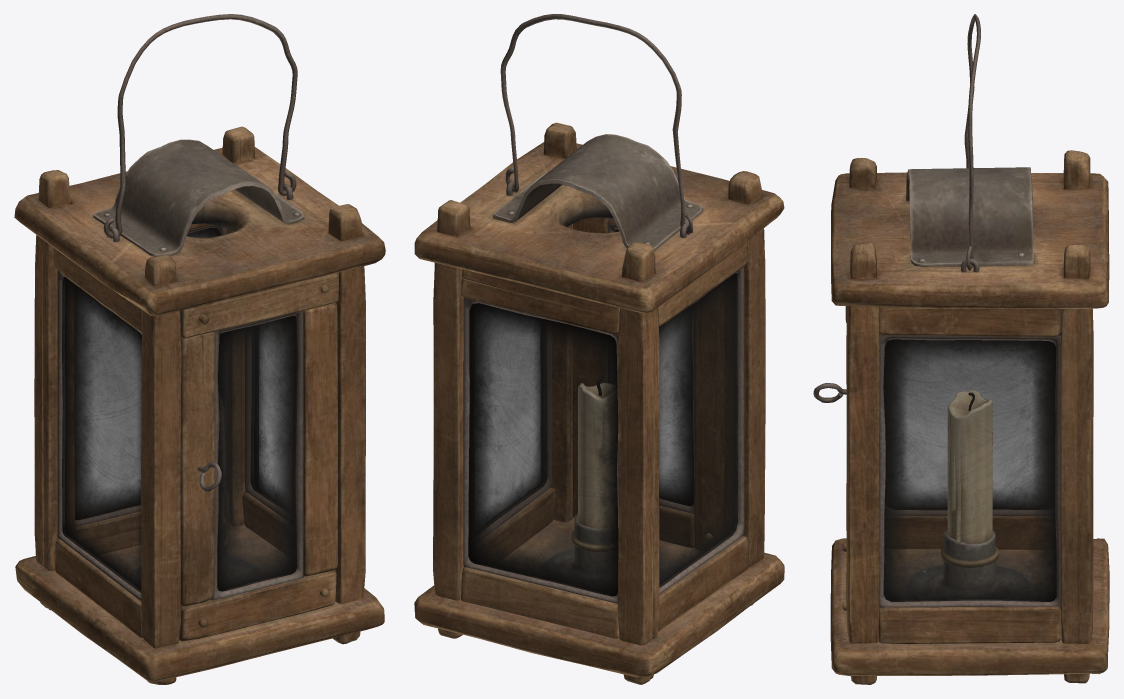
Rendered from lantern.glb.
3 renders of one model, left to right at view 1: azimuth 30°, elevation 25°; view 2: azimuth 150°, elevation 25°; view 3: azimuth 270°, elevation 25°, orthographic.
Parts seen in each view (by area): view 1: wooden_lantern_01, wooden_lantern_01_door, wooden_lantern_01_handle; view 2: wooden_lantern_01, wooden_lantern_01_door, wooden_lantern_01_handle; view 3: wooden_lantern_01, wooden_lantern_01_handle, wooden_lantern_01_door.
Part boxes in pixels (box(x1,y1,x2,y2)): wooden_lantern_01: box(14, 126, 385, 684); wooden_lantern_01_door: box(179, 272, 339, 641); wooden_lantern_01_handle: box(103, 14, 297, 238); wooden_lantern_01: box(414, 122, 784, 684); wooden_lantern_01_door: box(573, 217, 724, 549); wooden_lantern_01_handle: box(500, 14, 692, 234); wooden_lantern_01: box(830, 150, 1109, 684); wooden_lantern_01_handle: box(964, 14, 980, 270); wooden_lantern_01_door: box(813, 306, 847, 610).
Bounding box in the file's own units: 0.2211 × 0.5301 × 0.2347.
2 materials, 2 textured.
